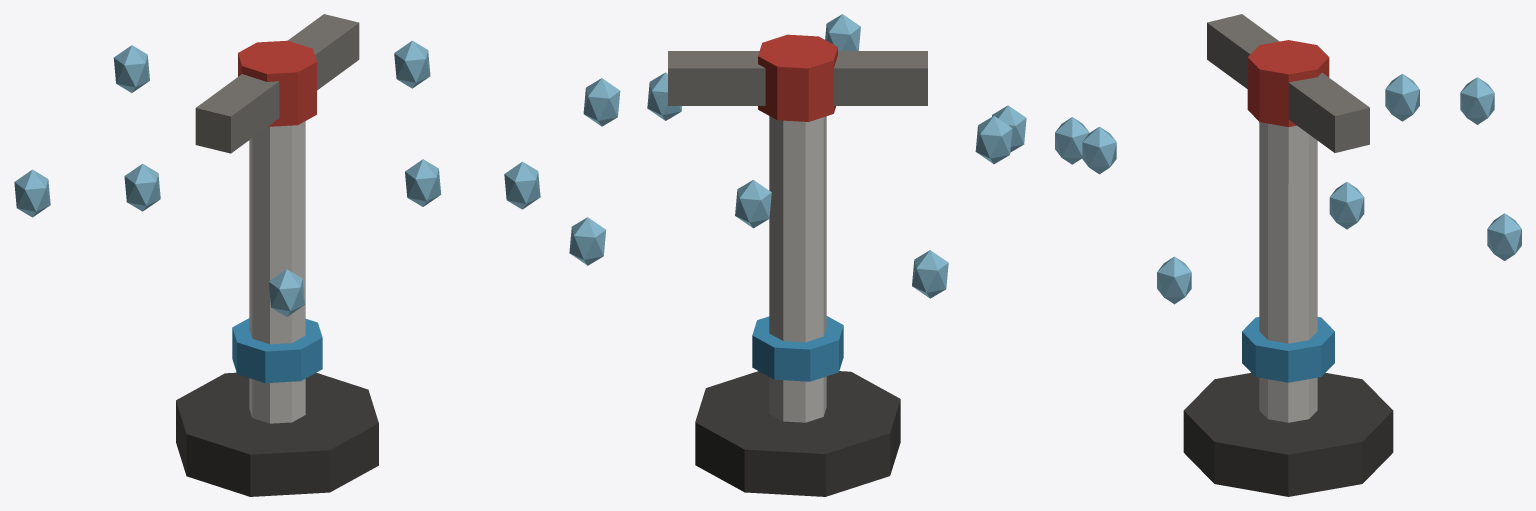
Rendered from sprinkler.fbx.
The picture shows the model from 3 angles, left to right: view 1: azimuth 30°, elevation 25°; view 2: azimuth 150°, elevation 25°; view 3: azimuth 270°, elevation 25°; orthographic projection.
Visible parts, largest first — view 1: sprinkler; view 2: sprinkler; view 3: sprinkler.
Boxes of the visible parts, x1,y1,x2,y2 form: sprinkler: [14, 14, 540, 496]; sprinkler: [569, 14, 1026, 496]; sprinkler: [1055, 14, 1521, 496].
Size of the model in its own units: 2.42 by 2.25 by 2.41.
